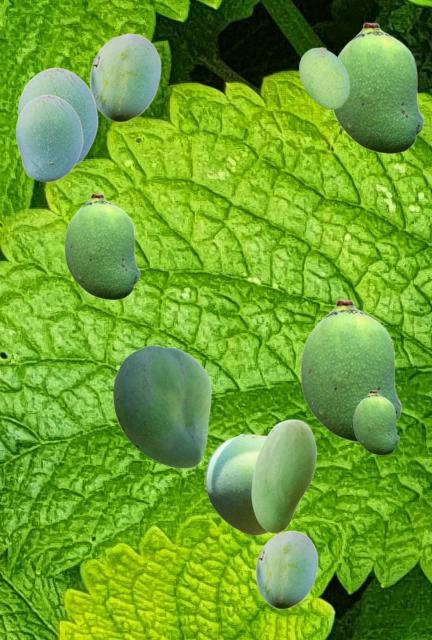green_mango: (300, 299, 401, 442), (332, 22, 423, 153), (113, 345, 210, 467), (205, 433, 301, 534), (64, 193, 139, 299), (17, 67, 97, 166), (251, 419, 315, 532), (89, 33, 160, 121), (15, 94, 82, 181), (255, 530, 317, 608), (299, 47, 348, 108), (353, 390, 398, 454)
